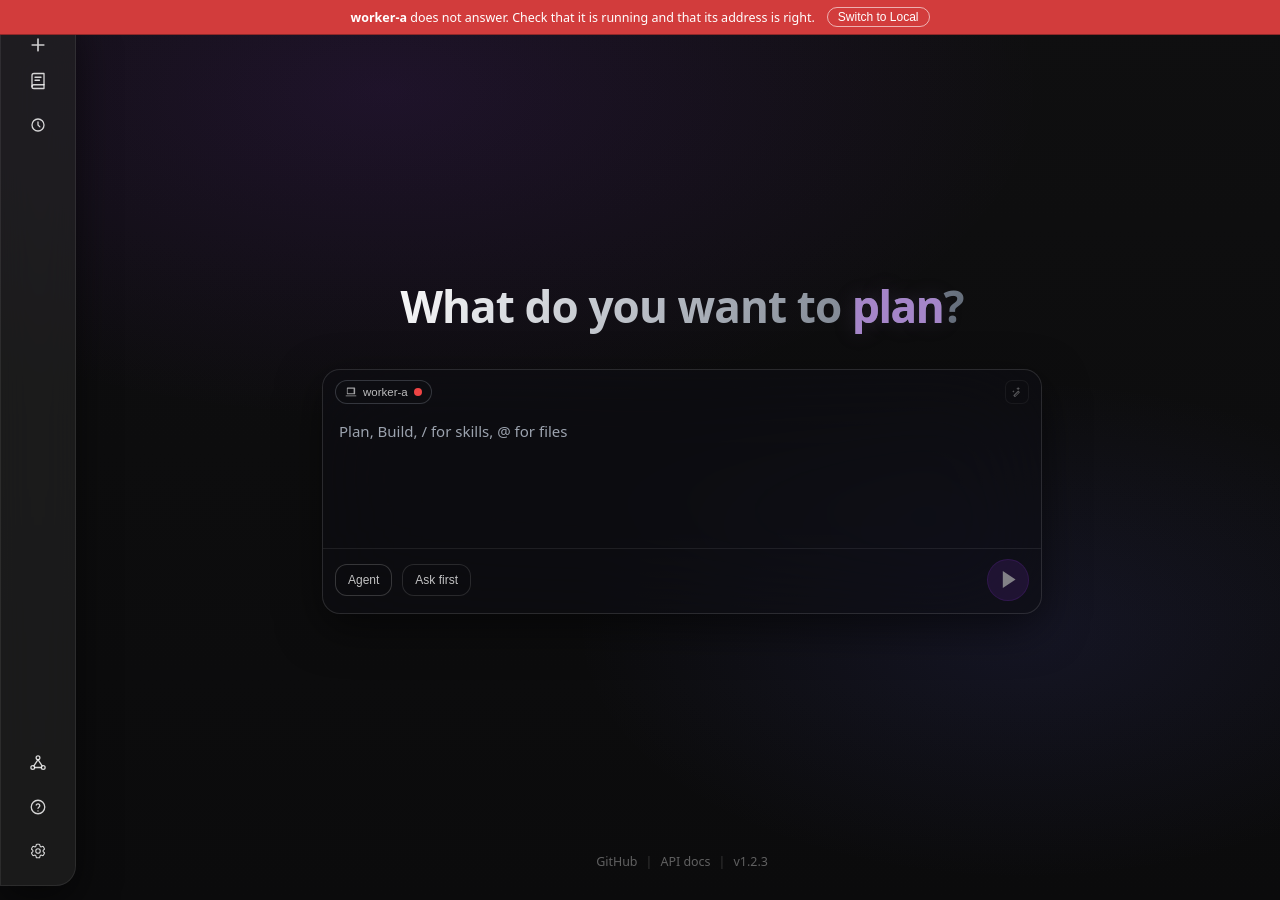
it: the swarm map opens over a node without leaving it
The width and height of the screenshot is (1280, 900).
Click the link with test id "nav-swarm". click: [38, 763]
box: [29,754,47,772]
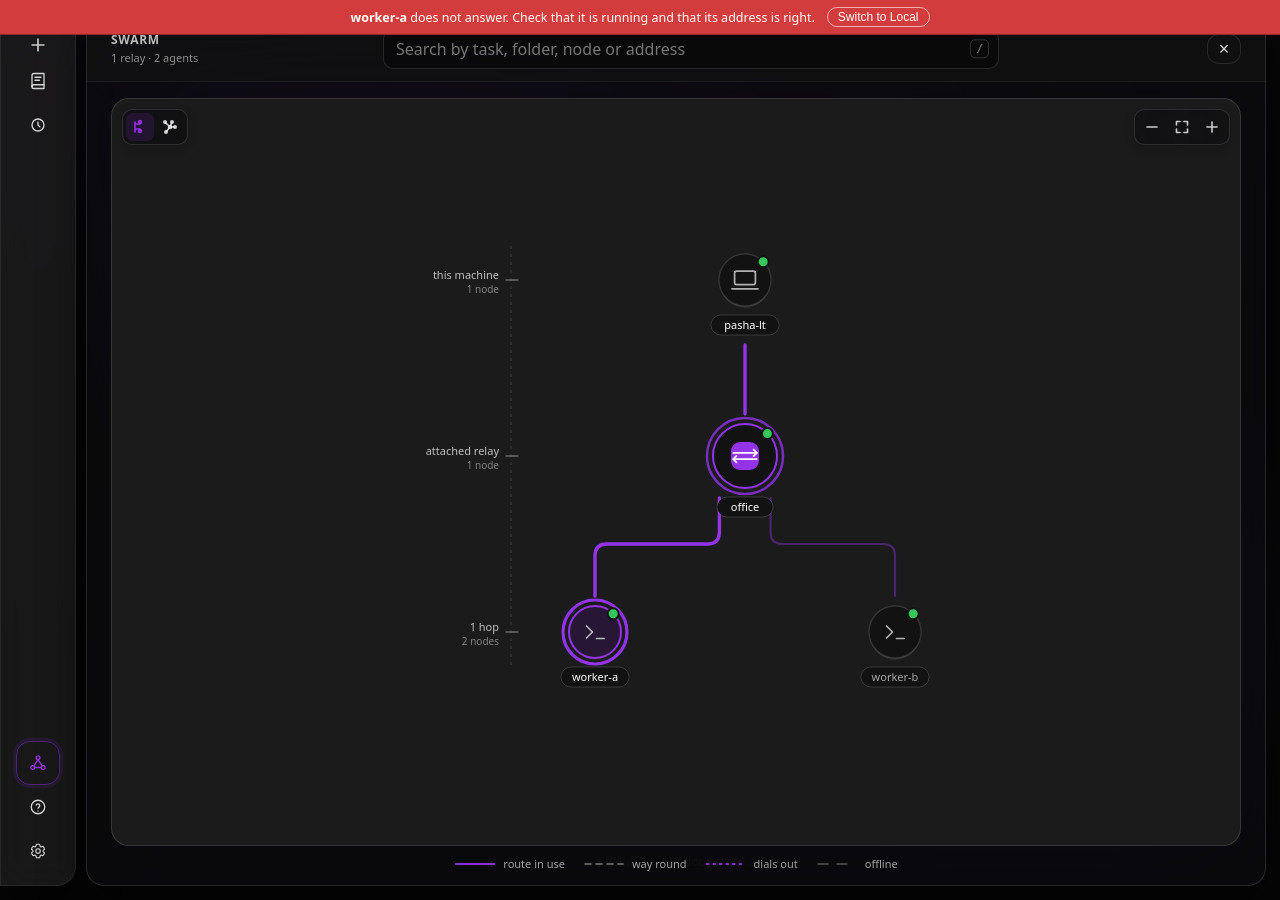
Expected: the link with test id "nav-history" is shown, [29,72,47,90]
Result: the element with test id "swarm-view" is shown
